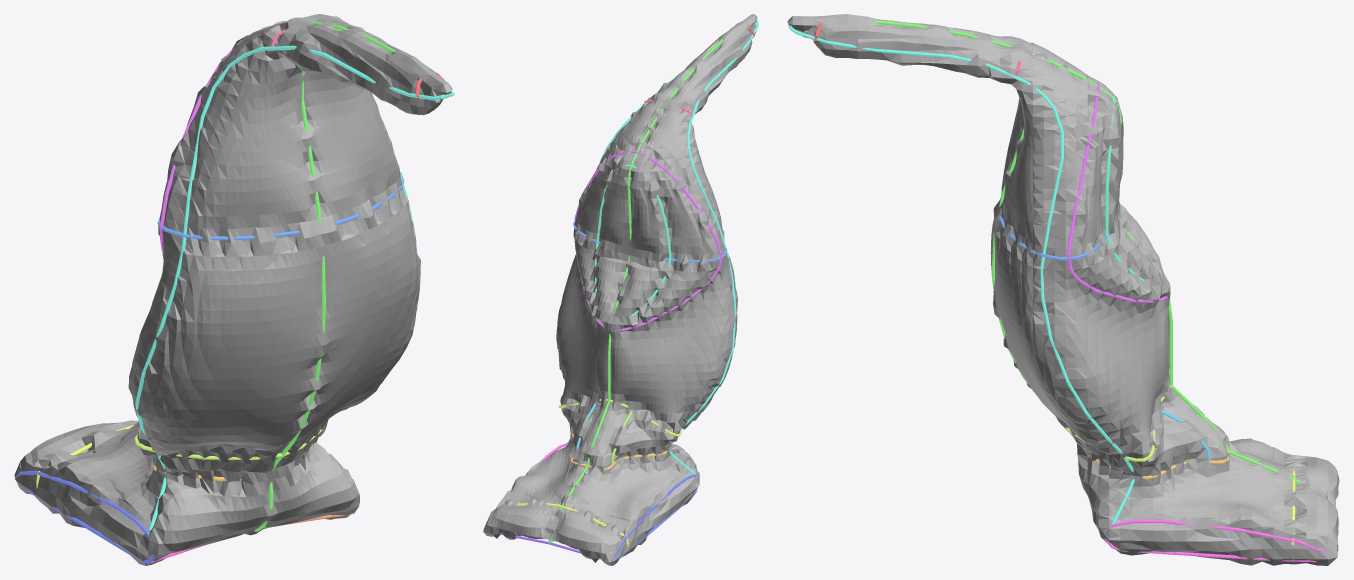
Rendered from t2f_vacuum.gltf.
3 views of the same model, side by side, from view 1: azimuth 30°, elevation 25°; view 2: azimuth 150°, elevation 25°; view 3: azimuth 270°, elevation 25° (orthographic). The views are drawn at different scales.
Size of the model in its own units: 0.317 by 0.6933 by 0.6783.
